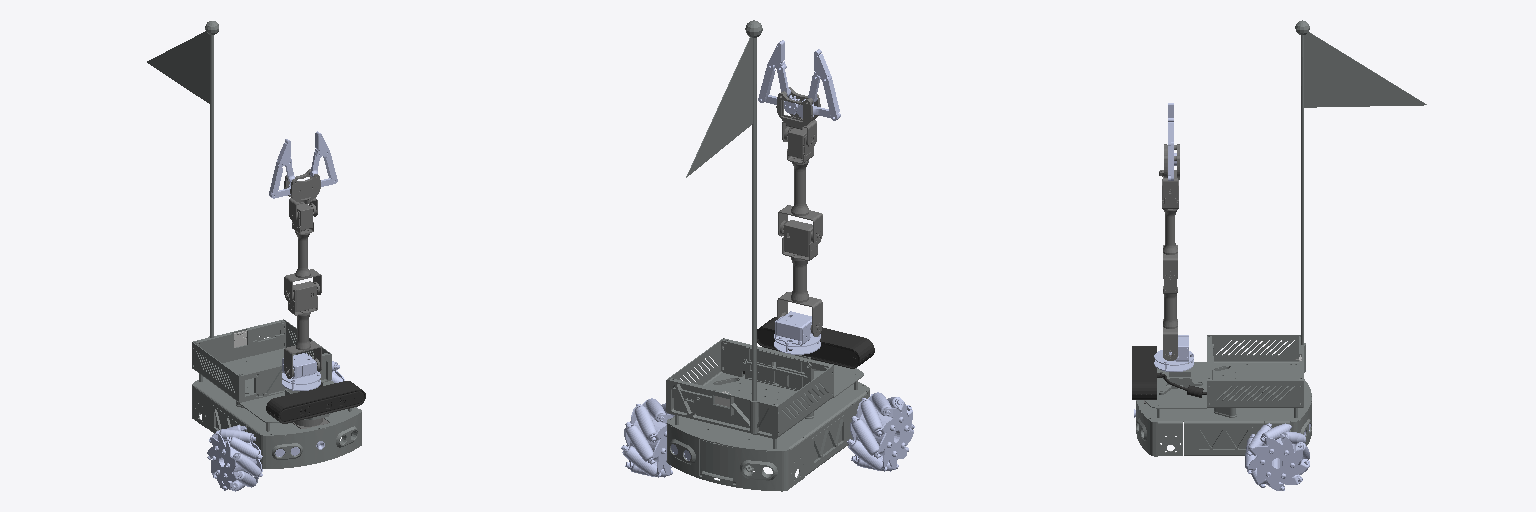
--- Render facts (derived) ---
The picture shows the robot from 3 angles, left to right: view 1: azimuth 30°, elevation 25°; view 2: azimuth 150°, elevation 25°; view 3: azimuth 270°, elevation 25°; orthographic projection.
Robot: mirte_master — 24 links, 23 joints (10 revolute, 4 continuous, 9 fixed); root link base_link; default pose: all joints at 0.
Links seen in each view (by area): view 1: base_link, wheel_fr, depth_cam, arm_Shoulder, arm_Elbow, arm_Wrist, arm_Rot; view 2: base_link, wheel_fr, wheel_bl, arm_Shoulder, depth_cam, arm_Elbow, arm_Rot, arm_Wrist, _Gripper_r, Gripper; view 3: base_link, wheel_bl, depth_cam, arm_Elbow, arm_Shoulder, arm_Rot, arm_Wrist.
Link boxes in pixels (x1=…): base_link: x1=147, y1=21, x2=361, y2=468; wheel_fr: x1=207, y1=425, x2=262, y2=491; depth_cam: x1=266, y1=381, x2=365, y2=423; arm_Shoulder: x1=284, y1=281, x2=321, y2=378; arm_Elbow: x1=284, y1=203, x2=321, y2=301; arm_Wrist: x1=284, y1=169, x2=320, y2=221; arm_Rot: x1=282, y1=353, x2=320, y2=390; base_link: x1=666, y1=20, x2=869, y2=491; wheel_fr: x1=847, y1=392, x2=914, y2=471; wheel_bl: x1=621, y1=398, x2=674, y2=477; arm_Shoulder: x1=777, y1=220, x2=822, y2=336; depth_cam: x1=743, y1=317, x2=874, y2=373; arm_Elbow: x1=778, y1=127, x2=822, y2=244; arm_Rot: x1=774, y1=311, x2=820, y2=354; arm_Wrist: x1=776, y1=87, x2=820, y2=148; _Gripper_r: x1=797, y1=77, x2=840, y2=120; Gripper: x1=758, y1=63, x2=799, y2=114; base_link: x1=1136, y1=20, x2=1426, y2=456; wheel_bl: x1=1245, y1=423, x2=1309, y2=490; depth_cam: x1=1132, y1=346, x2=1206, y2=399; arm_Elbow: x1=1162, y1=179, x2=1178, y2=282; arm_Shoulder: x1=1163, y1=274, x2=1177, y2=360; arm_Rot: x1=1154, y1=335, x2=1193, y2=371; arm_Wrist: x1=1159, y1=144, x2=1179, y2=199.
Bounding box of the posed robot: 0.314 × 0.4713 × 0.7358 m (x, y, z).
20 mesh visuals loaded from 24 distinct referenced files (20 binary STL); not drawn: 4 (reference not matched to a file when rendering).

robot.urdf — mirte_master:
<?xml version="1.0" encoding="utf-8"?>
<!-- This URDF was automatically created by SolidWorks to URDF Exporter! Originally created by Stephen Brawner ([email redacted]) 
     Commit Version: 1.6.0-4-g7f85cfe  Build Version: 1.6.7995.38578
     For more information, please see http://wiki.ros.org/sw_urdf_exporter -->
<robot
  name="mirte_master">
  <link
    name="base_link">
    <inertial>
      <origin
        xyz="-0.00024285 0.0082178 -0.0037661"
        rpy="0 0 0" />
      <mass
        value="3.0815" />
      <inertia
        ixx="0.01245"
        ixy="-6.0298E-07"
        ixz="-7.3071E-07"
        iyy="0.0091262"
        iyz="-0.00017974"
        izz="0.020706" />
    </inertial>
    <visual>
      <origin
        xyz="0 0 0"
        rpy="0 0 0" />
      <geometry>
        <mesh
          filename="package://mirte_master_description/meshes/base_link.STL" />
      </geometry>
      <material
        name="">
        <color
          rgba="0.52941 0.54902 0.54902 1" />
      </material>
    </visual>
    <collision>
      <origin
        xyz="0 0 0"
        rpy="0 0 0" />
      <geometry>
        <mesh
          filename="package://mirte_master_description/meshes/base_link.STL" />
      </geometry>
    </collision>
  </link>
  <link
    name="wheel_fl">
    <inertial>
      <origin
        xyz="-1.1211E-10 2.9249E-10 0.024936"
        rpy="0 0 0" />
      <mass
        value="0.26661" />
      <inertia
        ixx="8.0546E-05"
        ixy="1.9673E-15"
        ixz="1.226E-14"
        iyy="8.0546E-05"
        iyz="9.6889E-15"
        izz="9.3196E-05" />
    </inertial>
    <visual>
      <origin
        xyz="0 0 0"
        rpy="0 0 0" />
      <geometry>
        <mesh
          filename="package://mirte_master_description/meshes/wheel_fl.STL" />
      </geometry>
      <material
        name="">
        <color
          rgba="0.79216 0.81961 0.93333 1" />
      </material>
    </visual>
    <collision>
      <origin
        xyz="0 0 0"
        rpy="0 0 0" />
      <geometry>
        <mesh
          filename="package://mirte_master_description/meshes/wheel_fl.STL" />
      </geometry>
    </collision>
  </link>
  <joint
    name="wheel_joint_fl"
    type="continuous">
    <origin
      xyz="0.153 -0.085 -0.0455"
      rpy="1.5708 0 -1.5708" />
    <parent
      link="base_link" />
    <child
      link="wheel_fl" />
    <axis
      xyz="0 0 -1" />
  </joint>
  <link
    name="wheel_br">
    <inertial>
      <origin
        xyz="-1.0009E-10 2.9473E-10 -0.025064"
        rpy="0 0 0" />
      <mass
        value="0.26661" />
      <inertia
        ixx="8.0546E-05"
        ixy="4.8209E-17"
        ixz="1.2652E-14"
        iyy="8.0546E-05"
        iyz="1.7571E-14"
        izz="9.3196E-05" />
    </inertial>
    <visual>
      <origin
        xyz="0 0 0"
        rpy="0 0 0" />
      <geometry>
        <mesh
          filename="package://mirte_master_description/meshes/wheel_br.STL" />
      </geometry>
      <material
        name="">
        <color
          rgba="0.79216 0.81961 0.93333 1" />
      </material>
    </visual>
    <collision>
      <origin
        xyz="0 0 0"
        rpy="0 0 0" />
      <geometry>
        <mesh
          filename="package://mirte_master_description/meshes/wheel_br.STL" />
      </geometry>
    </collision>
  </link>
  <joint
    name="wheel_joint_br"
    type="continuous">
    <origin
      xyz="-0.153 0.085 -0.0455"
      rpy="1.5708 0 -1.5708" />
    <parent
      link="base_link" />
    <child
      link="wheel_br" />
    <axis
      xyz="0 0 1" />
  </joint>
  <link
    name="wheel_fr">
    <inertial>
      <origin
        xyz="-1.9E-10 2.1252E-10 -0.025064"
        rpy="0 0 0" />
      <mass
        value="0.26661" />
      <inertia
        ixx="8.0546E-05"
        ixy="-4.5866E-15"
        ixz="7.6917E-14"
        iyy="8.0546E-05"
        iyz="9.6011E-15"
        izz="9.3196E-05" />
    </inertial>
    <visual>
      <origin
        xyz="0 0 0"
        rpy="0 0 0" />
      <geometry>
        <mesh
          filename="package://mirte_master_description/meshes/wheel_fr.STL" />
      </geometry>
      <material
        name="">
        <color
          rgba="0.79216 0.81961 0.93333 1" />
      </material>
    </visual>
    <collision>
      <origin
        xyz="0 0 0"
        rpy="0 0 0" />
      <geometry>
        <mesh
          filename="package://mirte_master_description/meshes/wheel_fr.STL" />
      </geometry>
    </collision>
  </link>
  <joint
    name="wheel_joint_fr"
    type="continuous">
    <origin
      xyz="-0.153 -0.085 -0.0455"
      rpy="1.5708 0 -1.5708" />
    <parent
      link="base_link" />
    <child
      link="wheel_fr" />
    <axis
      xyz="0 0 1" />
  </joint>
  <link
    name="wheel_bl">
    <inertial>
      <origin
        xyz="-1.9E-10 2.1252E-10 0.024936"
        rpy="0 0 0" />
      <mass
        value="0.26661" />
      <inertia
        ixx="8.0546E-05"
        ixy="-4.5761E-15"
        ixz="7.6918E-14"
        iyy="8.0546E-05"
        iyz="9.5856E-15"
        izz="9.3196E-05" />
    </inertial>
    <visual>
      <origin
        xyz="0 0 0"
        rpy="0 0 0" />
      <geometry>
        <mesh
          filename="package://mirte_master_description/meshes/wheel_bl.STL" />
      </geometry>
      <material
        name="">
        <color
          rgba="0.79216 0.81961 0.93333 1" />
      </material>
    </visual>
    <collision>
      <origin
        xyz="0 0 0"
        rpy="0 0 0" />
      <geometry>
        <mesh
          filename="package://mirte_master_description/meshes/wheel_bl.STL" />
      </geometry>
    </collision>
  </link>
  <joint
    name="wheel_joint_bl"
    type="continuous">
    <origin
      xyz="0.153 0.085 -0.0455"
      rpy="1.5708 0 -1.5708" />
    <parent
      link="base_link" />
    <child
      link="wheel_bl" />
    <axis
      xyz="0 0 -1" />
  </joint>
  <link
    name="cam_front">
    <inertial>
      <origin
        xyz="-0.00010069 -0.00018452 0.0033961"
        rpy="0 0 0" />
      <mass
        value="0.0022023" />
      <inertia
        ixx="7.901E-08"
        ixy="-1.4438E-25"
        ixz="5.502E-24"
        iyy="1.049E-07"
        iyz="-1.0016E-23"
        izz="1.3983E-07" />
    </inertial>
    <visual>
      <origin
        xyz="0 0 0"
        rpy="0 0 0" />
      <geometry>
        <mesh
          filename="package://mirte_master_description/meshes/cam_front.STL" />
      </geometry>
      <material
        name="">
        <color
          rgba="0.79608 0.82353 0.93725 1" />
      </material>
    </visual>
    <collision>
      <origin
        xyz="0 0 0"
        rpy="0 0 0" />
      <geometry>
        <mesh
          filename="package://mirte_master_description/meshes/cam_front.STL" />
      </geometry>
    </collision>
  </link>
  <joint
    name="cam_joint_front"
    type="fixed">
    <origin
      xyz="0 -0.1325 -0.0285"
      rpy="1.5708 0 0" />
    <parent
      link="base_link" />
    <child
      link="cam_front" />
    <axis
      xyz="0 0 0" />
  </joint>
  <link
    name="ultrasonic_fl">
    <inertial>
      <origin
        xyz="-4.30733527062924E-05 0.00367564883489804 -6.99136578631437E-05"
        rpy="0 0 0" />
      <mass
        value="0.00383513951999247" />
      <inertia
        ixx="1.59365628586768E-07"
        ixy="-8.54250314742639E-10"
        ixz="-3.40905422018191E-09"
        iyy="7.68751523460336E-07"
        iyz="2.65062440645508E-09"
        izz="7.26221149125628E-07" />
    </inertial>
    <visual>
      <origin
        xyz="0 0 0"
        rpy="0 0 0" />
      <geometry>
        <mesh
          filename="package://mirte_master_description/meshes/ultrasonic_fl.STL" />
      </geometry>
      <material
        name="">
        <color
          rgba="0.792156862745098 0.819607843137255 0.933333333333333 1" />
      </material>
    </visual>
    <collision>
      <origin
        xyz="0 0 0"
        rpy="0 0 0" />
      <geometry>
        <mesh
          filename="package://mirte_master_description/meshes/ultrasonic_fl.STL" />
      </geometry>
    </collision>
  </link>
  <joint
    name="ultrasonic_joint_fl"
    type="fixed">
    <origin
      xyz="0.05297775289576 -0.120282421780502 -0.031"
      rpy="3.14159265358979 0 0.296705972839036" />
    <parent
      link="base_link" />
    <child
      link="ultrasonic_fl" />
    <axis
      xyz="0 0 0" />
  </joint>
  <link
    name="ultrasonic_fr">
    <inertial>
      <origin
        xyz="-4.30733527063201E-05 0.00367564883489799 -6.99136578631784E-05"
        rpy="0 0 0" />
      <mass
        value="0.00383513951999245" />
      <inertia
        ixx="1.59365628586767E-07"
        ixy="-8.54250314742507E-10"
        ixz="-3.40905422018182E-09"
        iyy="7.6875152346034E-07"
        iyz="2.65062440645522E-09"
        izz="7.26221149125632E-07" />
    </inertial>
    <visual>
      <origin
        xyz="0 0 0"
        rpy="0 0 0" />
      <geometry>
        <mesh
          filename="package://mirte_master_description/meshes/ultrasonic_fr.STL" />
      </geometry>
      <material
        name="">
        <color
          rgba="0.792156862745098 0.819607843137255 0.933333333333333 1" />
      </material>
    </visual>
    <collision>
      <origin
        xyz="0 0 0"
        rpy="0 0 0" />
      <geometry>
        <mesh
          filename="package://mirte_master_description/meshes/ultrasonic_fr.STL" />
      </geometry>
    </collision>
  </link>
  <joint
    name="ultrasonic_joint_fr"
    type="fixed">
    <origin
      xyz="-0.05297775289576 -0.120282421780502 -0.031"
      rpy="3.14159265358979 0 -0.296705972839036" />
    <parent
      link="base_link" />
    <child
      link="ultrasonic_fr" />
    <axis
      xyz="0 0 0" />
  </joint>
  <link
    name="ultrasonic_bl">
    <inertial>
      <origin
        xyz="-4.30733527062716E-05 0.00367564883489804 -6.9913657863175E-05"
        rpy="0 0 0" />
      <mass
        value="0.00383513951999244" />
      <inertia
        ixx="1.59365628586767E-07"
        ixy="-8.54250314742494E-10"
        ixz="-3.40905422018206E-09"
        iyy="7.68751523460339E-07"
        iyz="2.6506244064553E-09"
        izz="7.26221149125632E-07" />
    </inertial>
    <visual>
      <origin
        xyz="0 0 0"
        rpy="0 0 0" />
      <geometry>
        <mesh
          filename="package://mirte_master_description/meshes/ultrasonic_bl.STL" />
      </geometry>
      <material
        name="">
        <color
          rgba="0.792156862745098 0.819607843137255 0.933333333333333 1" />
      </material>
    </visual>
    <collision>
      <origin
        xyz="0 0 0"
        rpy="0 0 0" />
      <geometry>
        <mesh
          filename="package://mirte_master_description/meshes/ultrasonic_bl.STL" />
      </geometry>
    </collision>
  </link>
  <joint
    name="ultrasonic_joint_bl"
    type="fixed">
    <origin
      xyz="0.0565606470918482 0.119187021096338 -0.031"
      rpy="3.14159265358979 0 2.84488668075076" />
    <parent
      link="base_link" />
    <child
      link="ultrasonic_bl" />
    <axis
      xyz="0 0 0" />
  </joint>
  <link
    name="ultrasonic_br">
    <inertial>
      <origin
        xyz="-4.30733527062716E-05 0.00367564883489802 -6.99136578631541E-05"
        rpy="0 0 0" />
      <mass
        value="0.00383513951999245" />
      <inertia
        ixx="1.59365628586768E-07"
        ixy="-8.54250314743155E-10"
        ixz="-3.40905422018173E-09"
        iyy="7.68751523460337E-07"
        iyz="2.65062440645518E-09"
        izz="7.26221149125628E-07" />
    </inertial>
    <visual>
      <origin
        xyz="0 0 0"
        rpy="0 0 0" />
      <geometry>
        <mesh
          filename="package://mirte_master_description/meshes/ultrasonic_br.STL" />
      </geometry>
      <material
        name="">
        <color
          rgba="0.792156862745098 0.819607843137255 0.933333333333333 1" />
      </material>
    </visual>
    <collision>
      <origin
        xyz="0 0 0"
        rpy="0 0 0" />
      <geometry>
        <mesh
          filename="package://mirte_master_description/meshes/ultrasonic_br.STL" />
      </geometry>
    </collision>
  </link>
  <joint
    name="ultrasonic_joint_br"
    type="fixed">
    <origin
      xyz="-0.0565606470918482 0.119187021096338 -0.031"
      rpy="3.14159265358979 0 -2.84488668075076" />
    <parent
      link="base_link" />
    <child
      link="ultrasonic_br" />
    <axis
      xyz="0 0 0" />
  </joint>
  <link
    name="depth_cam">
    <inertial>
      <origin
        xyz="0.00132191552494907 -0.000392007210431269 -0.0222605569616031"
        rpy="0 0 0" />
      <mass
        value="0.188133920196831" />
      <inertia
        ixx="6.91459455879894E-05"
        ixy="2.54332859259088E-06"
        ixz="1.91366261320705E-05"
        iyy="0.000449074814232154"
        iyz="-4.27256155918481E-06"
        izz="0.000408304016415217" />
    </inertial>
    <visual>
      <origin
        xyz="0 0 0"
        rpy="0 0 0" />
      <geometry>
        <mesh
          filename="package://mirte_master_description/meshes/depth_cam.STL" />
      </geometry>
      <material
        name="">
        <color
          rgba="0.250980392156863 0.250980392156863 0.250980392156863 1" />
      </material>
    </visual>
    <collision>
      <origin
        xyz="0 0 0"
        rpy="0 0 0" />
      <geometry>
        <mesh
          filename="package://mirte_master_description/meshes/depth_cam.STL" />
      </geometry>
    </collision>
  </link>
  <joint
    name="depth_cam_joint"
    type="fixed">
    <origin
      xyz="0 -0.146658788505756 0.0427000000000005"
      rpy="1.5707963267949 0 0" />
    <parent
      link="base_link" />
    <child
      link="depth_cam" />
    <axis
      xyz="0 0 0" />
  </joint>
  <link
    name="lidar">
    <inertial>
      <origin
        xyz="-3.97749846947626E-10 0.0118651639742243 -9.54386087724301E-05"
        rpy="0 0 0" />
      <mass
        value="0.100511981883415" />
      <inertia
        ixx="3.39518063996325E-05"
        ixy="-1.6211120950128E-12"
        ixz="-2.92284267016588E-13"
        iyy="4.1935853096105E-05"
        iyz="1.1815579647801E-07"
        izz="3.44778101670497E-05" />
    </inertial>
    <visual>
      <origin
        xyz="0 0 0"
        rpy="0 0 0" />
      <geometry>
        <mesh
          filename="package://mirte_master_description/meshes/lidar.STL" />
      </geometry>
      <material
        name="">
        <color
          rgba="0.501960784313725 0.501960784313725 0.501960784313725 1" />
      </material>
    </visual>
    <collision>
      <origin
        xyz="0 0 0"
        rpy="0 0 0" />
      <geometry>
        <mesh
          filename="package://mirte_master_description/meshes/lidar.STL" />
      </geometry>
    </collision>
  </link>
  <joint
    name="lidar_joint"
    type="fixed">
    <origin
      xyz="0 -0.1005 0.0072113248654052"
      rpy="-1.5707963267949 0 -1.5707963267949" />
    <parent
      link="base_link" />
    <child
      link="lidar" />
    <axis
      xyz="0 0 0" />
  </joint>
  <link
    name="screen">
    <inertial>
      <origin
        xyz="-1.24638847975239E-07 0.0013371323974908 0.00160606068028191"
        rpy="0 0 0" />
      <mass
        value="0.00357270774970056" />
      <inertia
        ixx="1.29976980207027E-07"
        ixy="-1.78182996362165E-11"
        ixz="-4.24689246841474E-13"
        iyy="2.09902246549457E-07"
        iyz="1.92672613573332E-09"
        izz="3.37075734369407E-07" />
    </inertial>
    <visual>
      <origin
        xyz="0 0 0"
        rpy="0 0 0" />
      <geometry>
        <mesh
          filename="package://mirte_master_description/meshes/screen.STL" />
      </geometry>
      <material
        name="">
        <color
          rgba="0.768627450980392 0.768627450980392 0.768627450980392 1" />
      </material>
    </visual>
    <collision>
      <origin
        xyz="0 0 0"
        rpy="0 0 0" />
      <geometry>
        <mesh
          filename="package://mirte_master_description/meshes/screen.STL" />
      </geometry>
    </collision>
  </link>
  <joint
    name="screen_joint"
    type="fixed">
    <origin
      xyz="0 0.121521156261136 0.0540000000000046"
      rpy="1.5707963267949 0 -3.14159265358979" />
    <parent
      link="base_link" />
    <child
      link="screen" />
    <axis
      xyz="0 0 0" />
  </joint>
  <link
    name="flag">
    <inertial>
      <origin
        xyz="0.0249185518105129 -0.170067519347241 -0.000222734216111346"
        rpy="0 0 0" />
      <mass
        value="0.0374187697708756" />
      <inertia
        ixx="0.00108799032272128"
        ixy="-6.06514391971722E-05"
        ixz="-2.07236681084901E-07"
        iyy="7.05873812366136E-05"
        iyz="-1.13163625013946E-06"
        izz="0.00115807893485493" />
    </inertial>
    <visual>
      <origin
        xyz="0 0 0"
        rpy="0 0 0" />
      <geometry>
        <mesh
          filename="package://mirte_master_description/meshes/flag.STL" />
      </geometry>
      <material
        name="">
        <color
          rgba="0.796078431372549 0.823529411764706 0.937254901960784 1" />
      </material>
    </visual>
    <collision>
      <origin
        xyz="0 0 0"
        rpy="0 0 0" />
      <geometry>
        <mesh
          filename="package://mirte_master_description/meshes/flag.STL" />
      </geometry>
    </collision>
  </link>
  <joint
    name="flag_joint"
    type="fixed">
    <origin
      xyz="-0.0496954854378495 0.124843221166346 0.625600000000005"
      rpy="1.5707963267949 0 1.61494047314374" />
    <parent
      link="base_link" />
    <child
      link="flag" />
    <axis
      xyz="0 0 0" />
  </joint>
  <link
    name="arm_Rot">
    <inertial>
      <origin
        xyz="-1.27894101951934E-05 0.0208058767653727 0.00585680210359747"
        rpy="0 0 0" />
      <mass
        value="0.0689676051678483" />
      <inertia
        ixx="1.10736817655159E-05"
        ixy="-9.06572517495388E-09"
        ixz="-2.13237951815141E-10"
        iyy="2.24480121987499E-05"
        iyz="-4.10984989642458E-07"
        izz="1.70252517510809E-05" />
    </inertial>
    <visual>
      <origin
        xyz="0 0 0"
        rpy="0 0 0" />
      <geometry>
        <mesh
          filename="package://mirte_master_description/meshes/arm_Rot.STL" />
      </geometry>
      <material
        name="">
        <color
          rgba="0.792156862745098 0.819607843137255 0.933333333333333 1" />
      </material>
    </visual>
    <collision>
      <origin
        xyz="0 0 0"
        rpy="0 0 0" />
      <geometry>
        <mesh
          filename="package://mirte_master_description/meshes/arm_Rot.STL" />
      </geometry>
    </collision>
  </link>
  <joint
    name="arm_Rot_joint"
    type="revolute">
    <origin
      xyz="0 -0.079274 0.06"
      rpy="1.5708 0 3.1416" />
    <parent
      link="base_link" />
    <child
      link="arm_Rot" />
    <axis
      xyz="0 1 0" />
    <limit
      lower="0"
      upper="0"
      effort="0"
      velocity="0" />
  </joint>
  <link
    name="arm_Shoulder">
    <inertial>
      <origin
        xyz="0.0764974362945755 0.000442680770353329 -4.93690401059954E-09"
        rpy="0 0 0" />
      <mass
        value="0.104616018825837" />
      <inertia
        ixx="3.85677839717214E-05"
        ixy="1.84827309047044E-08"
        ixz="1.42612941509626E-12"
        iyy="2.54245117502168E-05"
        iyz="-2.05142765424474E-12"
        izz="5.51611966703411E-05" />
    </inertial>
    <visual>
      <origin
        xyz="0 0 0"
        rpy="0 0 0" />
      <geometry>
        <mesh
          filename="package://mirte_master_description/meshes/arm_Shoulder.STL" />
      </geometry>
      <material
        name="">
        <color
          rgba="0.501960784313725 0.501960784313725 0.501960784313725 1" />
      </material>
    </visual>
    <collision>
      <origin
        xyz="0 0 0"
        rpy="0 0 0" />
      <geometry>
        <mesh
          filename="package://mirte_master_description/meshes/arm_Shoulder.STL" />
      </geometry>
    </collision>
  </link>
  <joint
    name="arm_Shoulder_joint"
    type="revolute">
    <origin
      xyz="0 0.0281 -0.00625"
      rpy="3.1416 0 1.5708" />
    <parent
      link="arm_Rot" />
    <child
      link="arm_Shoulder" />
    <axis
      xyz="1 0 0" />
    <limit
      lower="0"
      upper="0"
      effort="0"
      velocity="0" />
  </joint>
  <link
    name="arm_Elbow">
    <inertial>
      <origin
        xyz="0.000768647609078278 0.0642294520091309 -2.34835863116567E-08"
        rpy="0 0 0" />
      <mass
        value="0.0709795960901316" />
      <inertia
        ixx="2.06491501981418E-05"
        ixy="1.76077623308388E-08"
        ixz="-6.06300089698489E-13"
        iyy="2.45686930201746E-05"
        iyz="3.04033870141042E-12"
        izz="3.79131240892547E-05" />
    </inertial>
    <visual>
      <origin
        xyz="0 0 0"
        rpy="0 0 0" />
      <geometry>
        <mesh
          filename="package://mirte_master_description/meshes/arm_Elbow.STL" />
      </geometry>
      <material
        name="">
        <color
          rgba="0.501960784313725 0.501960784313725 0.501960784313725 1" />
      </material>
    </visual>
    <collision>
      <origin
        xyz="0 0 0"
        rpy="0 0 0" />
      <geometry>
        <mesh
          filename="package://mirte_master_description/meshes/arm_Elbow.STL" />
      </geometry>
    </collision>
  </link>
  <joint
    name="arm_Elbow_joint"
    type="revolute">
    <origin
      xyz="0.1378 0 0"
      rpy="-3.1416 0 1.5708" />
    <parent
      link="arm_Shoulder" />
    <child
      link="arm_Elbow" />
    <axis
      xyz="1 0 0" />
    <limit
      lower="0"
      upper="0"
      effort="0"
      velocity="0" />
  </joint>
  <link
    name="arm_Wrist">
    <inertial>
      <origin
        xyz="0.0225315136140379 0.000488092971965825 -2.74405760168628E-06"
        rpy="0 0 0" />
      <mass
        value="0.0464803878756425" />
      <inertia
        ixx="1.36228105923869E-05"
        ixy="-2.7486243117372E-08"
        ixz="-2.82180089490711E-08"
        iyy="7.22412070962973E-06"
        iyz="3.4652740053439E-09"
        izz="1.75204377049058E-05" />
    </inertial>
    <visual>
      <origin
        xyz="0 0 0"
        rpy="0 0 0" />
      <geometry>
        <mesh
          filename="package://mirte_master_description/meshes/arm_Wrist.STL" />
      </geometry>
      <material
        name="">
        <color
          rgba="0.501960784313725 0.501960784313725 0.501960784313725 1" />
      </material>
    </visual>
    <collision>
      <origin
        xyz="0 0 0"
        rpy="0 0 0" />
      <geometry>
        <mesh
          filename="package://mirte_master_description/meshes/arm_Wrist.STL" />
      </geometry>
    </collision>
  </link>
  <joint
    name="arm_Wrist_joint"
    type="revolute">
    <origin
      xyz="-0.00014 0.14265 0"
      rpy="3.1416 0 1.5708" />
    <parent
      link="arm_Elbow" />
    <child
      link="arm_Wrist" />
    <axis
      xyz="1 0 0" />
    <limit
      lower="0"
      upper="0"
      effort="0"
      velocity="0" />
  </joint>
  <link
    name="Gripper">
    <inertial>
      <origin
        xyz="0.0128439388984141 0.00467107677719844 -0.023531822516204"
        rpy="0 0 0" />
      <mass
        value="0.0109603788959771" />
      <inertia
        ixx="1.64287457972505E-06"
        ixy="-2.54915969005551E-10"
        ixz="-3.17766452649769E-07"
        iyy="2.96639543247368E-06"
        iyz="-7.8877045337556E-08"
        izz="1.49193844890504E-06" />
    </inertial>
    <visual>
      <origin
        xyz="0 0 0"
        rpy="0 0 0" />
      <geometry>
        <mesh
          filename="package://mirte_master_description/meshes/Gripper.STL" />
      </geometry>
      <material
        name="">
        <color
          rgba="0.792156862745098 0.819607843137255 0.933333333333333 1" />
      </material>
    </visual>
    <collision>
      <origin
        xyz="0 0 0"
        rpy="0 0 0" />
      <geometry>
        <mesh
          filename="package://mirte_master_description/meshes/Gripper.STL" />
      </geometry>
    </collision>
  </link>
  <joint
    name="Gripper_joint"
    type="revolute">
    <origin
      xyz="0.0435 -0.012 0.0045"
      rpy="-1.5708 0 0" />
    <parent
      link="arm_Wrist" />
    <child
      link="Gripper" />
    <axis
      xyz="0 0 1" />
    <limit
      lower="0"
      upper="0"
      effort="0"
      velocity="0" />
  </joint>
  <link
    name="_gripper_link_r">
    <inertial>
      <origin
        xyz="-1.28017477174502E-08 0.00327806945611438 -0.015628977594268"
        rpy="0 0 0" />
      <mass
        value="0.00257857268754656" />
      <inertia
        ixx="4.78055533789155E-07"
        ixy="-5.230783542464E-14"
        ixz="-2.66258471113313E-13"
        iyy="4.85504704619794E-07"
        iyz="-3.012555423281E-08"
        izz="3.42900323604584E-08" />
    </inertial>
    <visual>
      <origin
        xyz="0 0 0"
        rpy="0 0 0" />
      <geometry>
        <mesh
          filename="package://mirte_master_description/meshes/_gripper_link_r.STL" />
      </geometry>
      <material
        name="">
        <color
          rgba="0.792156862745098 0.819607843137255 0.933333333333333 1" />
      </material>
    </visual>
    <collision>
      <origin
        xyz="0 0 0"
        rpy="0 0 0" />
      <geometry>
        <mesh
          filename="package://mirte_master_description/meshes/_gripper_link_r.STL" />
      </geometry>
    </collision>
  </link>
  <joint
    name="_gripper_link_joint_r"
    type="revolute">
    <origin
      xyz="0.0605 0.0205 -0.0055"
      rpy="1.5708 0 -1.3641" />
    <parent
      link="arm_Wrist" />
    <child
      link="_gripper_link_r" />
    <axis
      xyz="0 0 1" />
    <limit
      lower="0"
      upper="0"
      effort="0"
      velocity="0" />
  </joint>
  <link
    name="gripper_finger_r">
    <inertial>
      <origin
        xyz="0.0053582194655247 0.00456985538673528 -0.0146658643393019"
        rpy="0 0 0" />
      <mass
        value="0.00531205810762776" />
      <inertia
        ixx="6.56191216382328E-07"
        ixy="4.9417968242523E-09"
        ixz="-1.23756532787867E-07"
        iyy="7.67327744037516E-07"
        iyz="3.35637410041389E-08"
        izz="1.97644006824673E-07" />
    </inertial>
    <visual>
      <origin
        xyz="0 0 0"
        rpy="0 0 0" />
      <geometry>
        <mesh
          filename="package://mirte_master_description/meshes/gripper_finger_r.STL" />
      </geometry>
      <material
        name="">
        <color
          rgba="0.792156862745098 0.819607843137255 0.933333333333333 1" />
      </material>
    </visual>
    <collision>
      <origin
        xyz="0 0 0"
        rpy="0 0 0" />
      <geometry>
        <mesh
          filename="package://mirte_master_description/meshes/gripper_finger_r.STL" />
      </geometry>
    </collision>
  </link>
  <joint
    name="gripper_finger_joint_r"
    type="revolute">
    <origin
      xyz="0 0.01 -0.037"
      rpy="0 0.20667 3.1416" />
    <parent
      link="_gripper_link_r" />
    <child
      link="gripper_finger_r" />
    <axis
      xyz="0 0 1" />
    <limit
      lower="0"
      upper="0"
      effort="0"
      velocity="0" />
  </joint>
  <link
    name="_gripper_link_l">
    <inertial>
      <origin
        xyz="-2.05686406795635E-09 0.00327805387383495 -0.0156289677422455"
        rpy="0 0 0" />
      <mass
        value="0.0025785751096632" />
      <inertia
        ixx="4.78055731035803E-07"
        ixy="1.11114248069431E-14"
        ixz="5.45978048241403E-14"
        iyy="4.85504889003676E-07"
        iyz="-3.01256260104972E-08"
        izz="3.4290092499709E-08" />
    </inertial>
    <visual>
      <origin
        xyz="0 0 0"
        rpy="0 0 0" />
      <geometry>
        <mesh
          filename="package://mirte_master_description/meshes/_gripper_link_l.STL" />
      </geometry>
      <material
        name="">
        <color
          rgba="0.792156862745098 0.819607843137255 0.933333333333333 1" />
      </material>
    </visual>
    <collision>
      <origin
        xyz="0 0 0"
        rpy="0 0 0" />
      <geometry>
        <mesh
          filename="package://mirte_master_description/meshes/_gripper_link_l.STL" />
      </geometry>
    </collision>
  </link>
  <joint
    name="_gripper_link_joint_l"
    type="revolute">
    <origin
      xyz="0.0605 -0.0205 -0.0055"
      rpy="1.5708 0 -1.7775" />
    <parent
      link="arm_Wrist" />
    <child
      link="_gripper_link_l" />
    <axis
      xyz="0 0 1" />
    <limit
      lower="0"
      upper="0"
      effort="0"
      velocity="0" />
  </joint>
  <link
    name="gripper_finger_l">
    <inertial>
      <origin
        xyz="0.00535821399237165 0.00543015238565805 -0.0146658496889369"
        rpy="0 0 0" />
      <mass
        value="0.00531205810762777" />
      <inertia
        ixx="6.56191216382329E-07"
        ixy="-4.94179682425222E-09"
        ixz="-1.23756532787868E-07"
        iyy="7.67327744037519E-07"
        iyz="-3.35637410041387E-08"
        izz="1.97644006824674E-07" />
    </inertial>
    <visual>
      <origin
        xyz="0 0 0"
        rpy="0 0 0" />
      <geometry>
        <mesh
          filename="package://mirte_master_description/meshes/gripper_finger_l.STL" />
      </geometry>
      <material
        name="">
        <color
          rgba="0.792156862745098 0.819607843137255 0.933333333333333 1" />
      </material>
    </visual>
    <collision>
      <origin
        xyz="0 0 0"
        rpy="0 0 0" />
      <geometry>
        <mesh
          filename="package://mirte_master_description/meshes/gripper_finger_l.STL" />
      </geometry>
    </collision>
  </link>
  <joint
    name="gripper_finger_joint_l"
    type="revolute">
    <origin
      xyz="0 0 -0.037"
      rpy="0 0.20667 0" />
    <parent
      link="_gripper_link_l" />
    <child
      link="gripper_finger_l" />
    <axis
      xyz="0 0 1" />
    <limit
      lower="0"
      upper="0"
      effort="0"
      velocity="0" />
  </joint>
  <link
    name="_Gripper_r">
    <inertial>
      <origin
        xyz="-0.011058953981311 0.00572378908343621 -0.0203029402870159"
        rpy="0 0 0" />
      <mass
        value="0.0127576574866818" />
      <inertia
        ixx="1.91784274511554E-06"
        ixy="-2.13316668505462E-10"
        ixz="3.18097729104346E-07"
        iyy="3.19294602407598E-06"
        iyz="-1.86219200901589E-07"
        izz="1.63755141963222E-06" />
    </inertial>
    <visual>
      <origin
        xyz="0 0 0"
        rpy="0 0 0" />
      <geometry>
        <mesh
          filename="package://mirte_master_description/meshes/_Gripper_r.STL" />
      </geometry>
      <material
        name="">
        <color
          rgba="0.792156862745098 0.819607843137255 0.933333333333333 1" />
      </material>
    </visual>
    <collision>
      <origin
        xyz="0 0 0"
        rpy="0 0 0" />
      <geometry>
        <mesh
          filename="package://mirte_master_description/meshes/_Gripper_r.STL" />
      </geometry>
    </collision>
  </link>
  <joint
    name="_Gripper_joint_r"
    type="revolute">
    <origin
      xyz="0.0435 0.012 0.0045"
      rpy="-1.5708 0 -3.1416" />
    <parent
      link="arm_Wrist" />
    <child
      link="_Gripper_r" />
    <axis
      xyz="0 0 1" />
    <limit
      lower="0"
      upper="0"
      effort="0"
      velocity="0" />
  </joint>
</robot>
